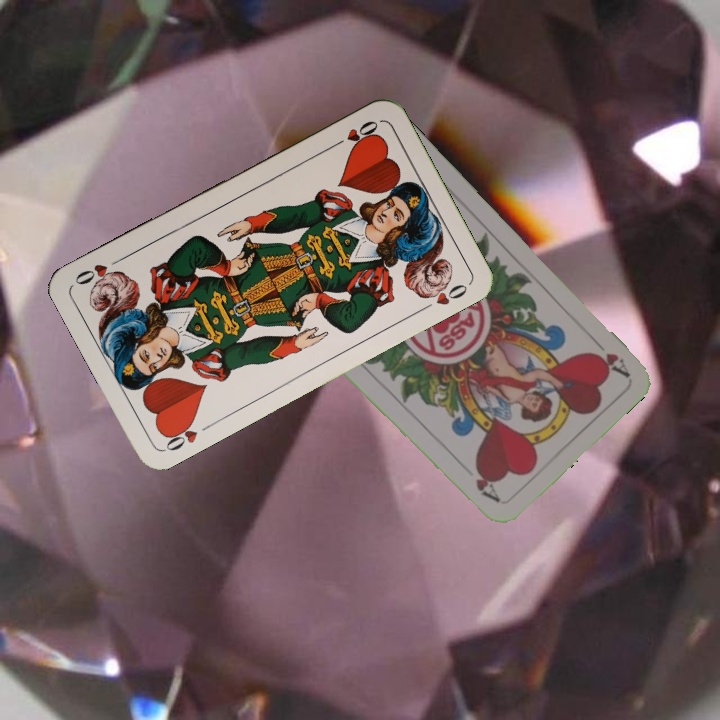HA: (585, 331, 631, 379)
HO: (327, 116, 381, 151), (159, 415, 200, 454)
